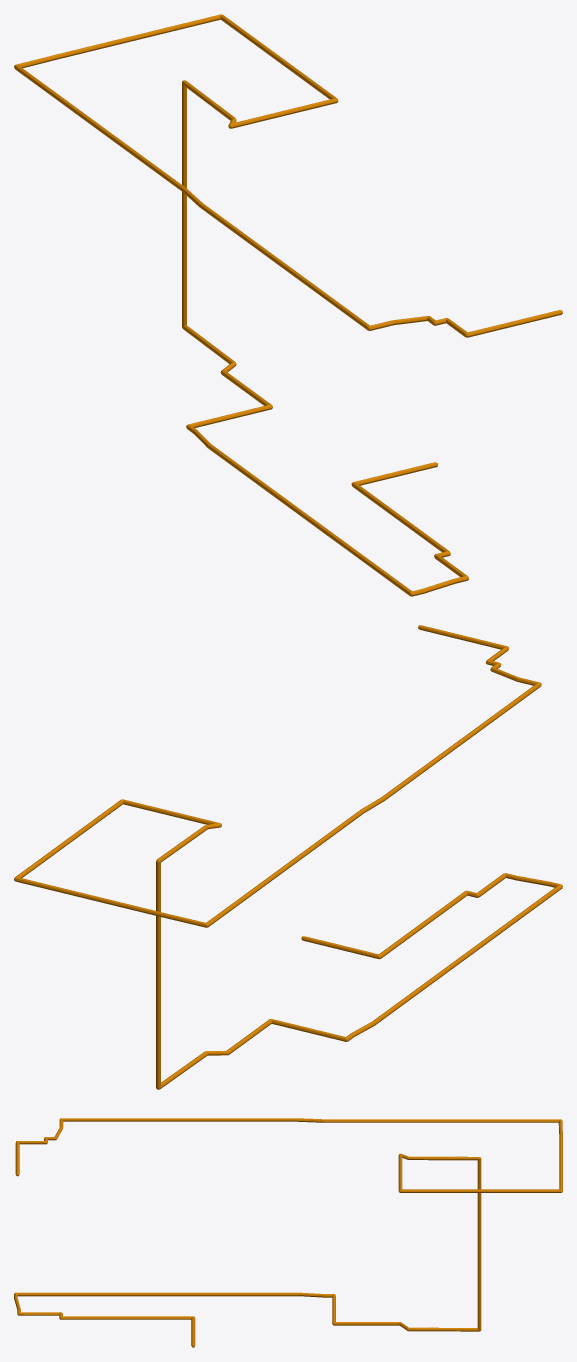
3 views of the same model, one above another, from view 1: azimuth 30°, elevation 25°; view 2: azimuth 150°, elevation 25°; view 3: azimuth 270°, elevation 25° (orthographic). The views are drawn at different scales.
Size of the model in its own units: 912 by 1020 by 2907.
